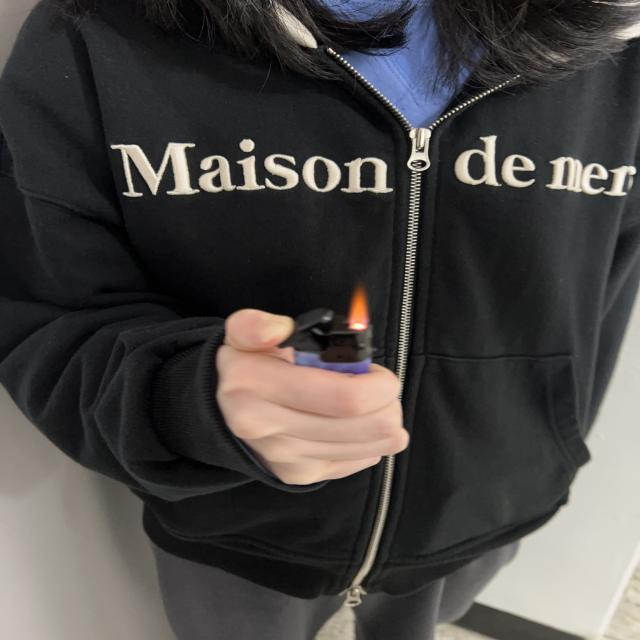fire: (347, 284, 370, 329)
